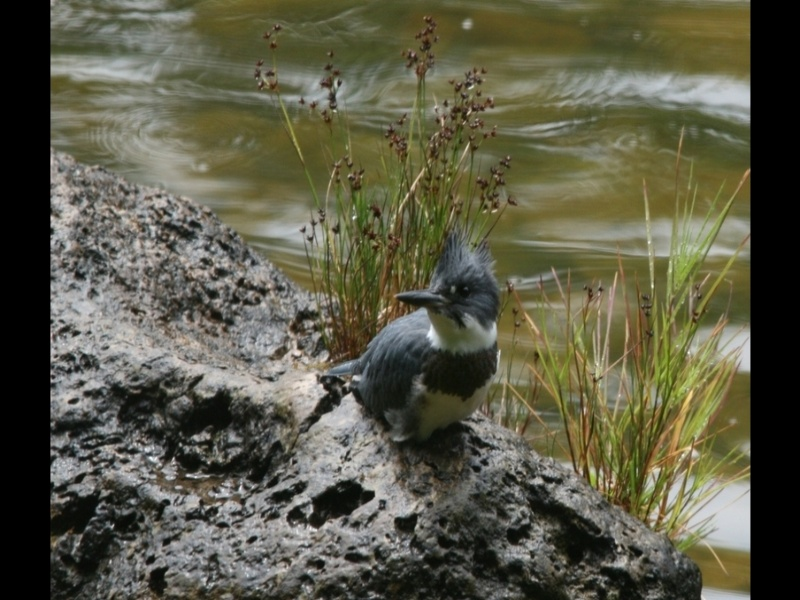kingfisher: (328, 234, 503, 449)
